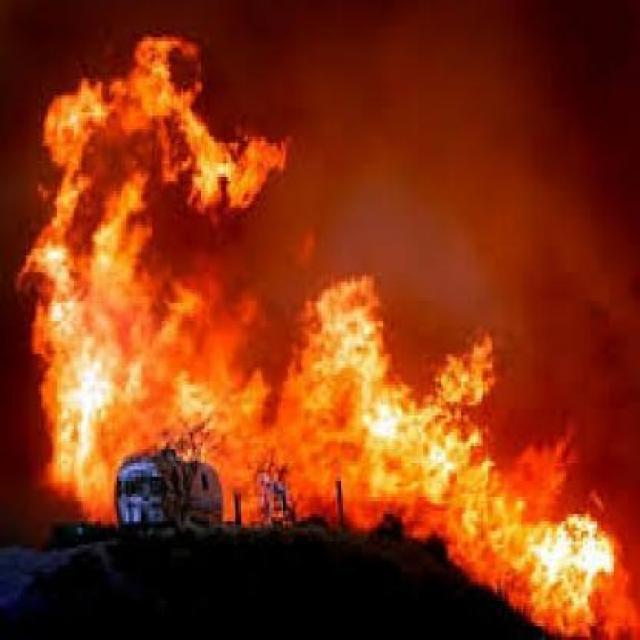Fire: (0, 62, 640, 640), (458, 478, 639, 638)
